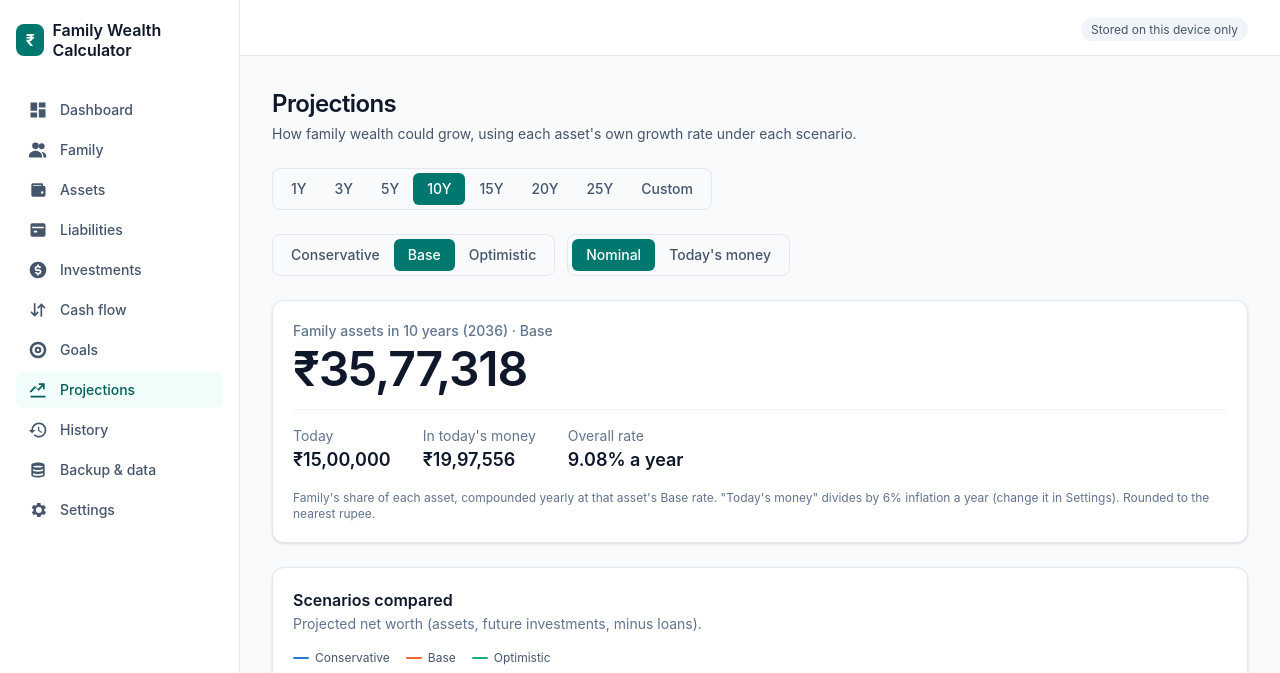
Test: Phase 9: scenarios and inflation › uses Settings class defaults for assets without their own scenario rate
Click the radio button labelled "Conservative" at (335,254), box [291, 246, 380, 263]
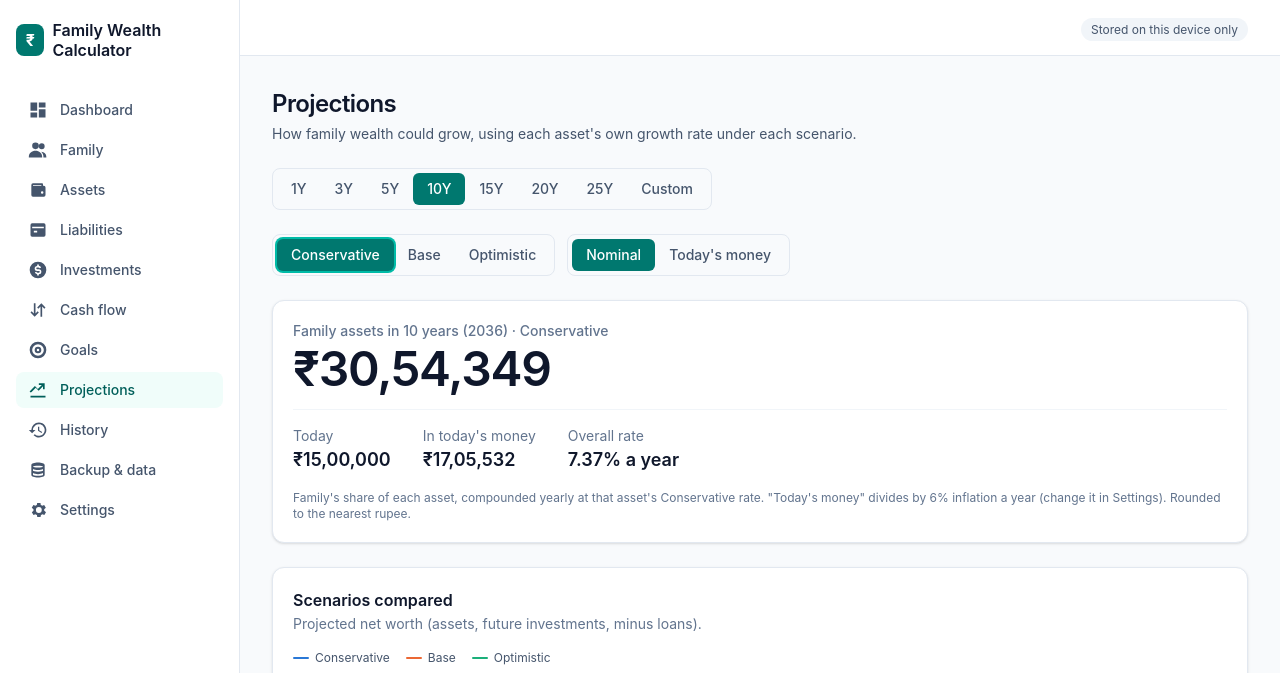
Result: the text with test id "projected-total" reads "₹30,54,349" at [293, 339, 551, 398]
# Optimistic: neither asset has a rate nor a default → flagged and held flat
Click the radio button labelled "Optimistic" at (502,254), box [469, 246, 536, 263]
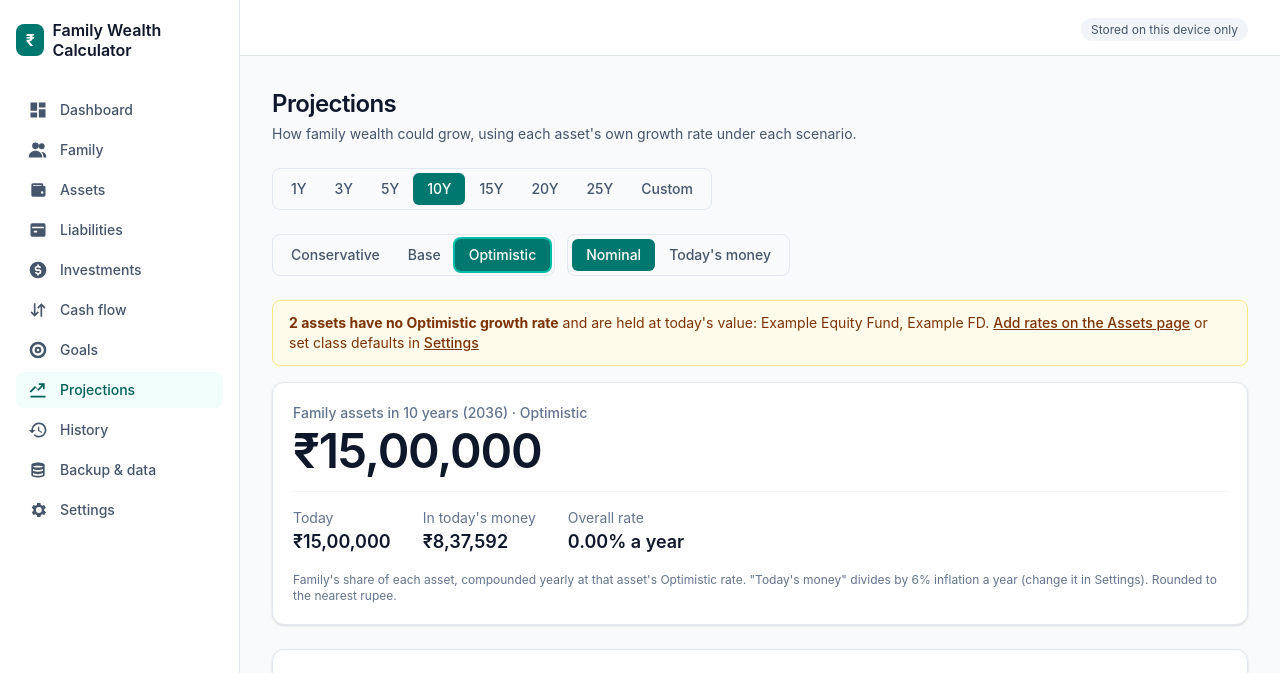
Result: the message shows "2 assets have no Optimistic growth rate" at [272, 300, 1248, 366]
Result: the text with test id "projected-total" reads "₹15,00,000" at [293, 421, 541, 480]
